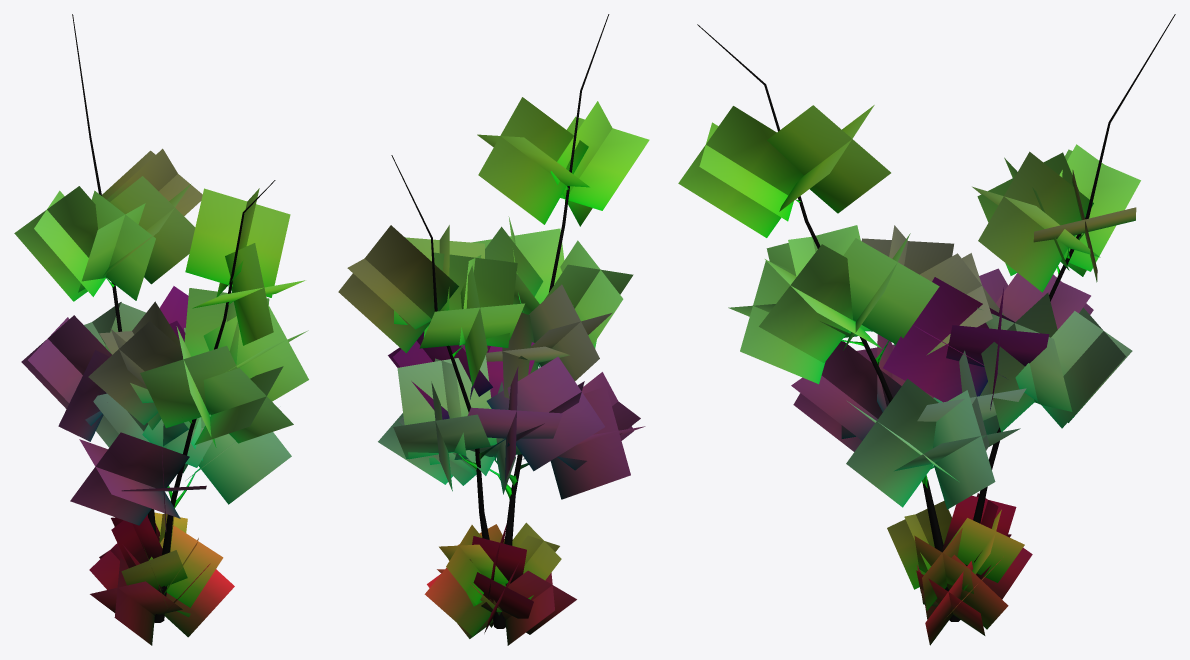
File: URP_P12_Tree_6_LOD_3.fbx
3 renders of one model, left to right at view 1: azimuth 30°, elevation 25°; view 2: azimuth 150°, elevation 25°; view 3: azimuth 270°, elevation 25°, orthographic. The views are drawn at different scales.
Parts seen in each view (by area): view 1: Tree_6_LOD_3; view 2: Tree_6_LOD_3; view 3: Tree_6_LOD_3.
Boxes of the visible parts, left/top/right/bottom form: Tree_6_LOD_3: left=14, top=14, right=308, bottom=645; Tree_6_LOD_3: left=338, top=14, right=649, bottom=645; Tree_6_LOD_3: left=678, top=14, right=1175, bottom=645.
Bounding box in the file's own units: 181 × 444 × 319.
